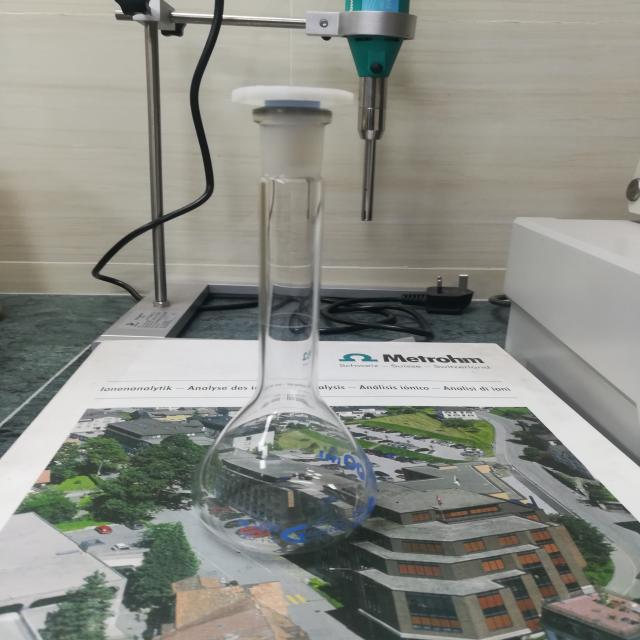Volumetric_Flask: (172, 60, 420, 580)
